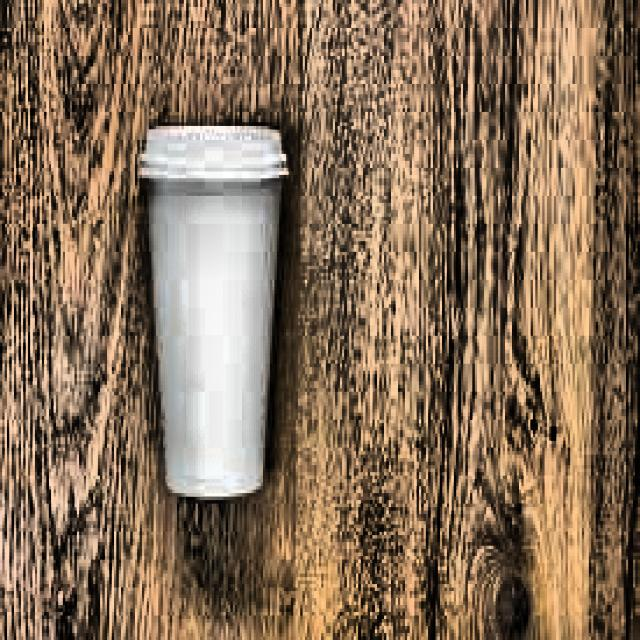Cup: (132, 151, 298, 513)
